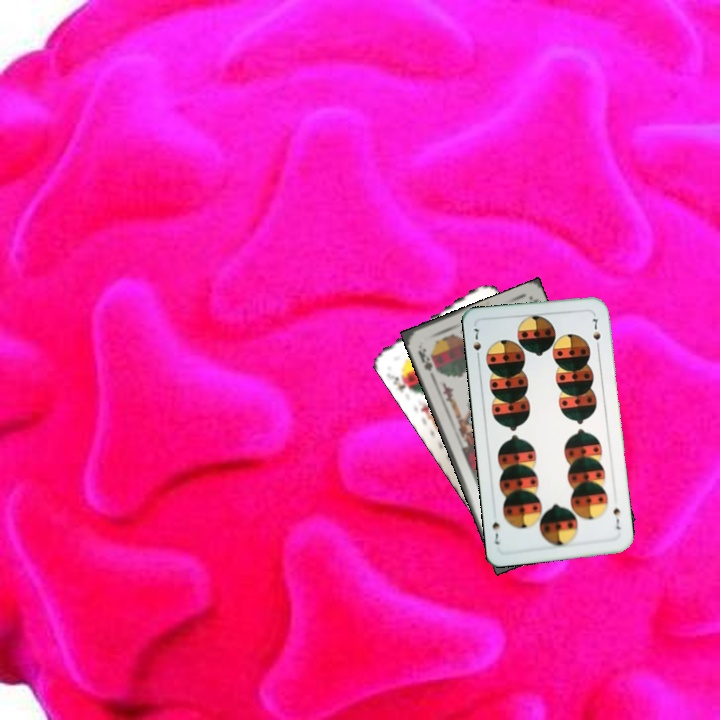S7: (469, 324, 484, 363), (609, 504, 623, 532)
SK: (414, 344, 441, 375), (386, 370, 417, 396)
